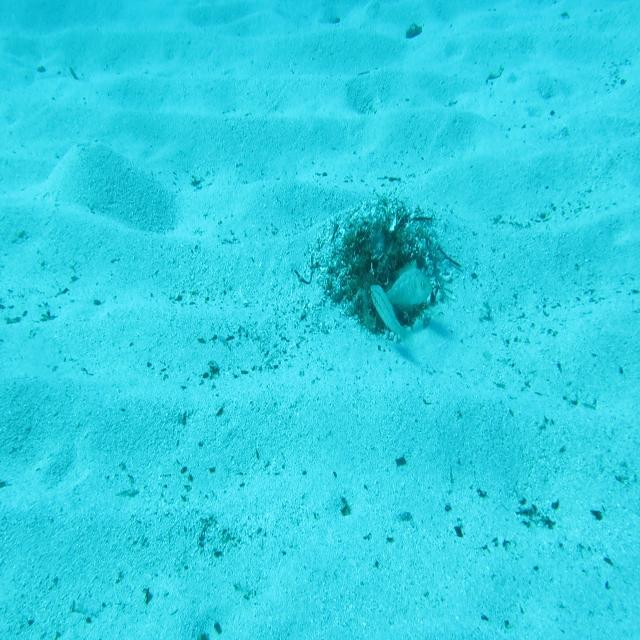DAN_CIRC: (374, 255, 436, 322)
female: (368, 282, 422, 356)
nest: (329, 200, 454, 347)
